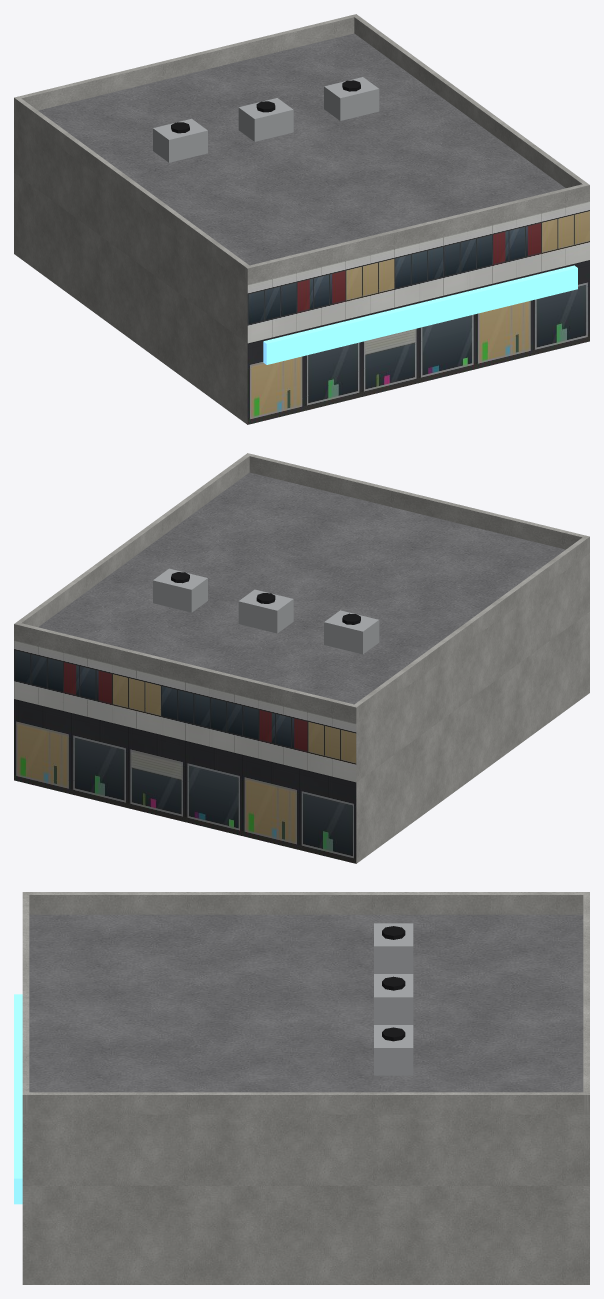
The model's file is 063_chain_store.glb.
3 renders of one model, top to bottom at view 1: azimuth 30°, elevation 25°; view 2: azimuth 150°, elevation 25°; view 3: azimuth 270°, elevation 25°, orthographic. The views are drawn at different scales.
Parts seen in each view (by area): view 1: 063_chain_store; view 2: 063_chain_store; view 3: 063_chain_store.
Part boxes in pixels (x1,y1,x2,y2): 063_chain_store: (14,14,589,424); 063_chain_store: (14,453,589,863); 063_chain_store: (14,892,589,1284).
Size of the model in its own units: 22 by 10.2 by 26.4.
7 materials, 4 textured.
